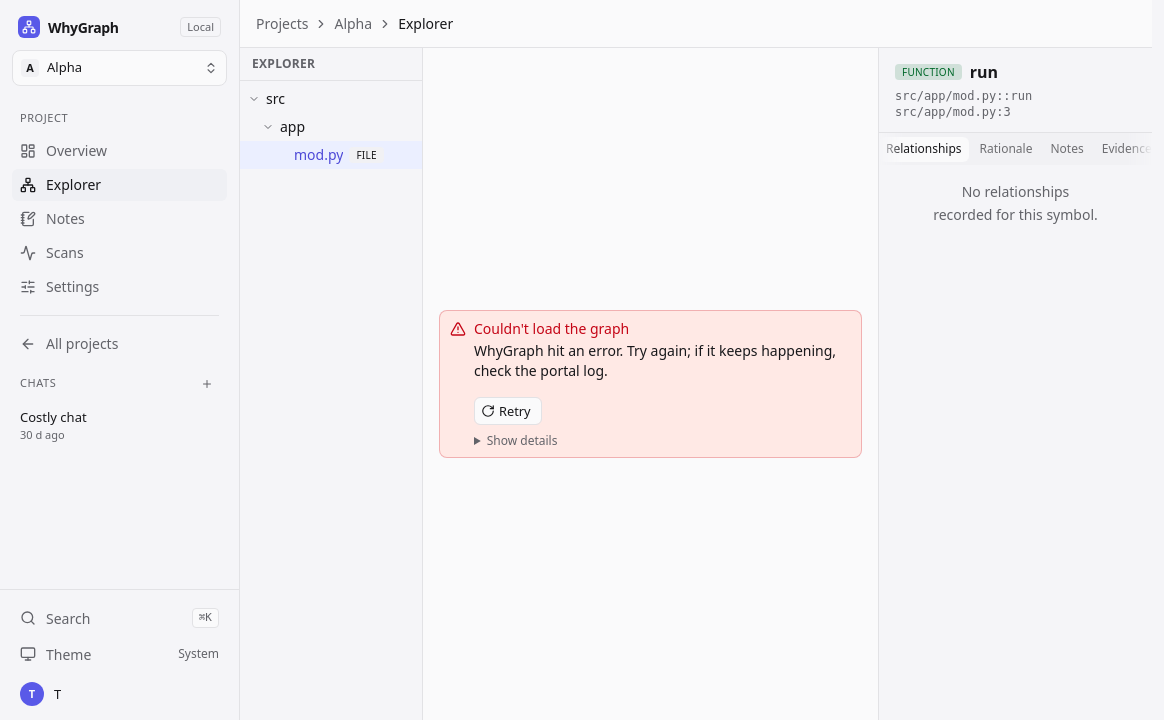
the Rationale tab states › counts a card's evidence with plurals: 1 commit, not 1 commits
What coordinates should you click on to do the following:
click the tab "Rationale"
I would click on:
 (1006, 149)
Its box is x1=973 y1=136 x2=1040 y2=162.
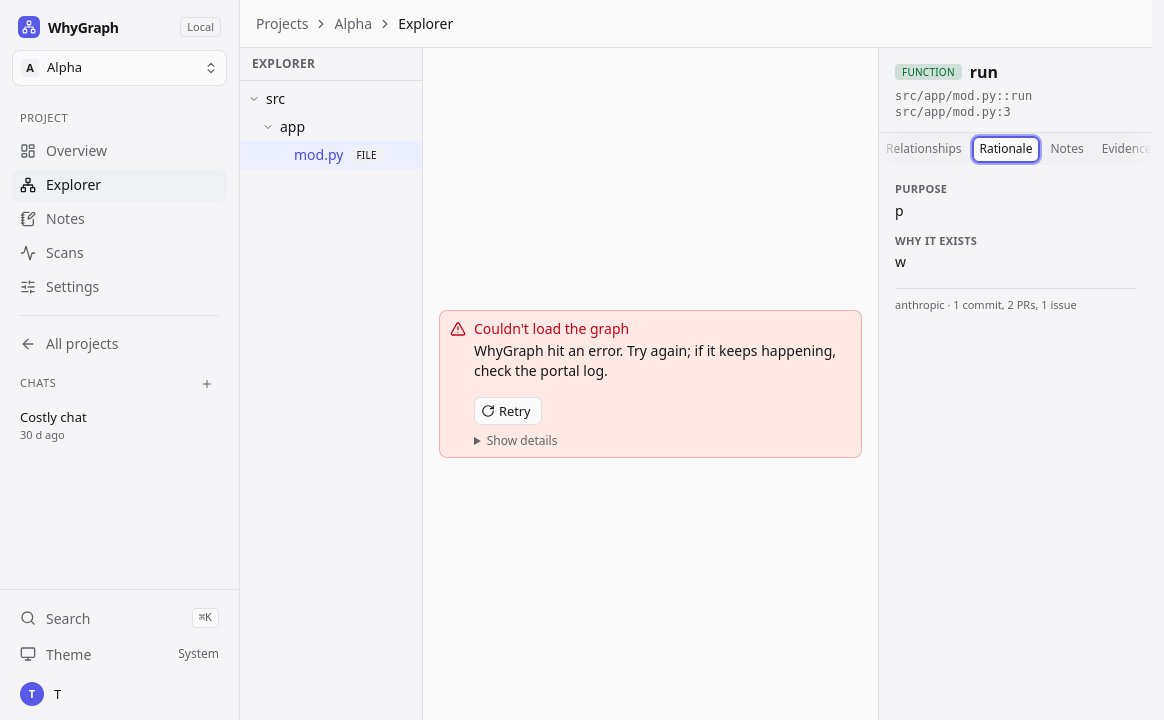
Check: the text "anthropic · 1 commit, 2 PRs, 1 issue" is shown, box x1=895 y1=288 x2=1136 y2=313
